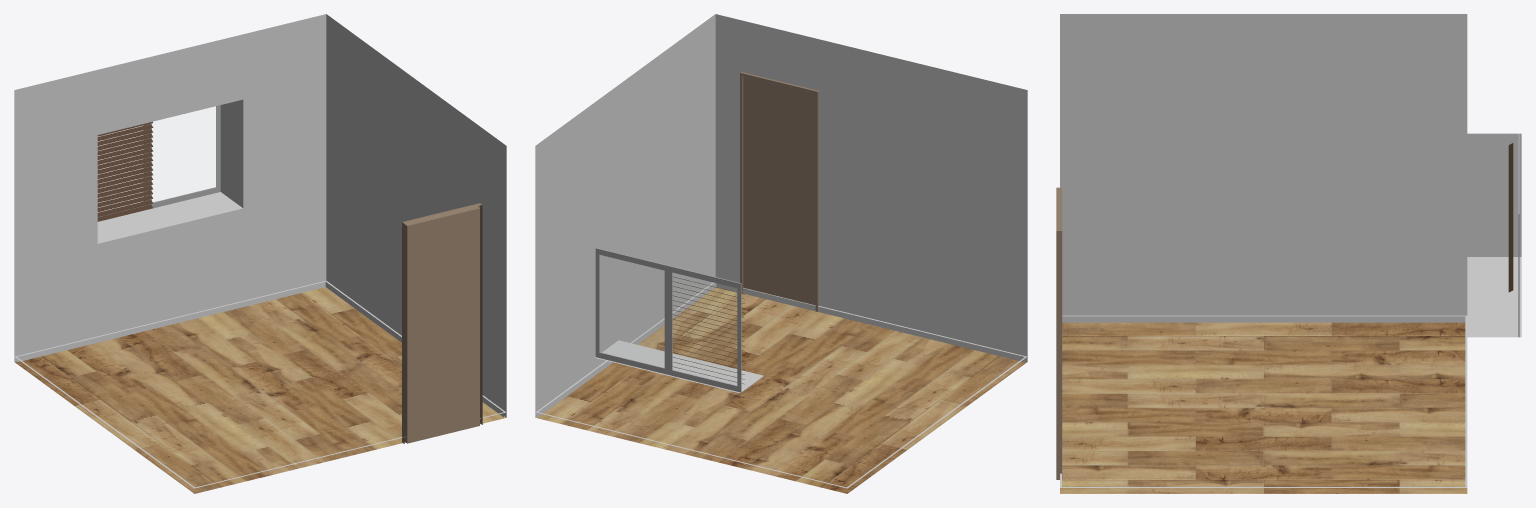
The picture shows the model from 3 angles, left to right: view 1: azimuth 30°, elevation 25°; view 2: azimuth 150°, elevation 25°; view 3: azimuth 270°, elevation 25°; orthographic projection. The views are drawn at different scales.
Parts seen in each view (by area): view 1: Wall, Floor, Door, Cube, Habaki, DoorFrame, Window; view 2: Wall, Floor, Door, Habaki, Window, DoorFrame, Cube; view 3: Wall, Floor, Habaki, DoorFrame, Cube.
Boxes of the visible parts, box(x1,y1,x2,y2) form: Wall: box(14, 14, 506, 417); Floor: box(14, 287, 505, 493); Door: box(405, 207, 479, 443); Cube: box(97, 121, 153, 221); Habaki: box(15, 280, 505, 488); DoorFrame: box(402, 203, 482, 443); Window: box(98, 105, 220, 221); Wall: box(535, 14, 1027, 417); Floor: box(536, 287, 1027, 493); Door: box(743, 76, 815, 305); Habaki: box(536, 282, 1026, 488); Window: box(595, 248, 741, 392); DoorFrame: box(740, 72, 818, 311); Cube: box(672, 276, 744, 384); Wall: box(1060, 14, 1521, 337); Floor: box(1060, 322, 1467, 493); Habaki: box(1060, 315, 1467, 487); DoorFrame: box(1056, 187, 1062, 479); Cube: box(1508, 143, 1513, 292).
Size of what is drawn, in the model's own units: 3 by 2.5 by 3.43.
5 materials, 1 textured.
